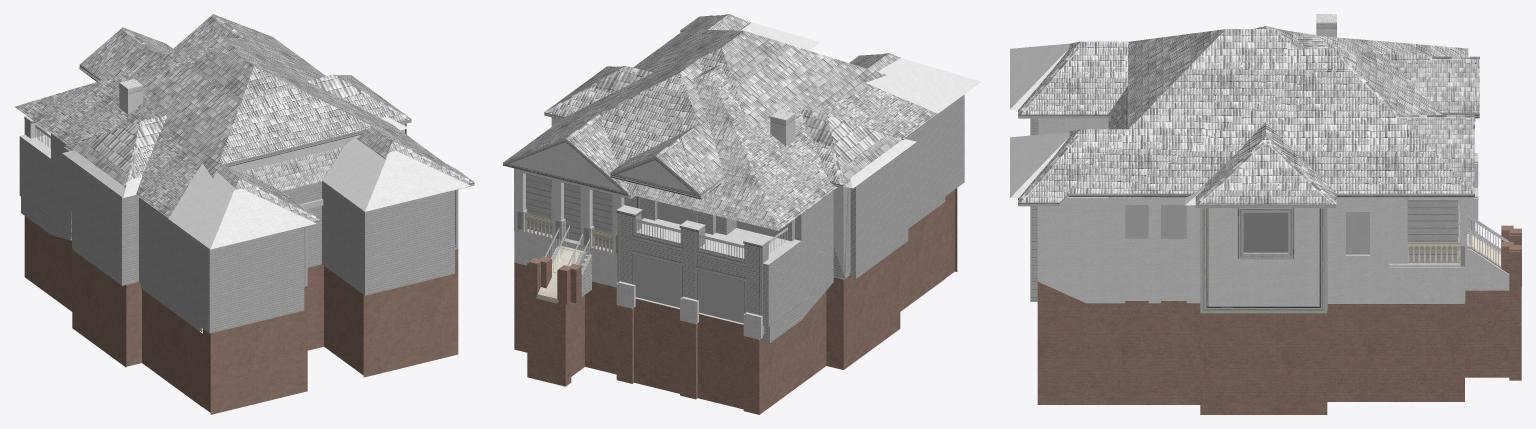
Rendered from house4.dae.
3 views of the same model, side by side, from view 1: azimuth 30°, elevation 25°; view 2: azimuth 150°, elevation 25°; view 3: azimuth 270°, elevation 25° (orthographic). The views are drawn at different scales.
Parts seen in each view (by area): view 1: house4_a100, house4_a500, house4_a250, Colmesh-1; view 2: house4_a500, house4_a250, house4_a100, Colmesh-1; view 3: house4_a500, house4_a250, house4_a100, Colmesh-1.
Part boxes in pixels (x1,y1,x2,y2): house4_a100: (14, 48, 470, 333); house4_a500: (24, 14, 474, 414); house4_a250: (24, 37, 442, 331); Colmesh-1: (21, 137, 71, 240); house4_a500: (503, 15, 957, 414); house4_a250: (506, 14, 945, 338); house4_a100: (527, 15, 981, 326); Colmesh-1: (526, 174, 833, 342); house4_a500: (1018, 24, 1521, 414); house4_a250: (1038, 14, 1521, 309); house4_a100: (1010, 35, 1468, 301); Colmesh-1: (1408, 197, 1513, 273).
Size of the model in its own units: 19.23 by 24.82 by 16.31.
